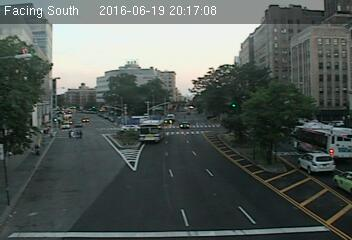neg: (28, 141, 40, 156), (180, 118, 190, 131), (40, 122, 50, 134)
pos: (67, 129, 76, 141), (77, 129, 84, 139)
